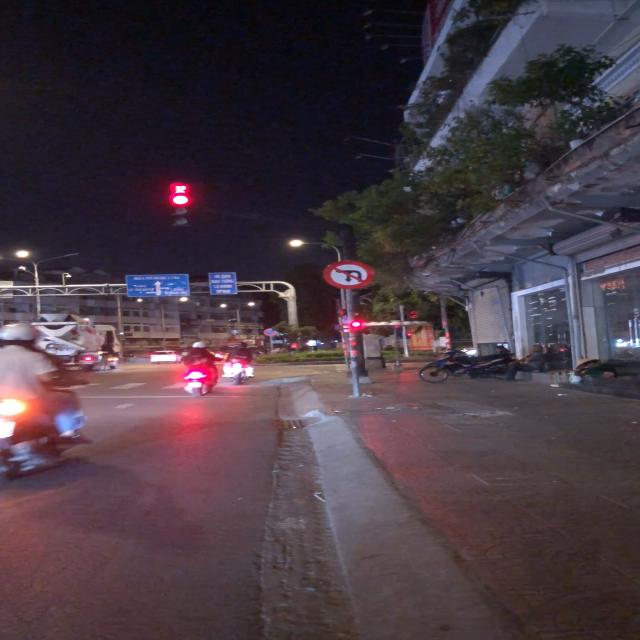Bien bao cam re trai va quay dau: (322, 260, 376, 290)
